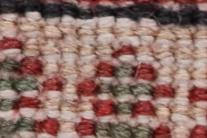Knot: (23, 12, 42, 23), (58, 6, 77, 17), (132, 84, 151, 94), (178, 12, 195, 23), (77, 34, 94, 45), (153, 106, 170, 117), (138, 17, 155, 28), (169, 112, 186, 123), (97, 17, 113, 28), (171, 26, 187, 37), (111, 67, 130, 76), (132, 103, 150, 112), (80, 18, 96, 28), (119, 53, 133, 64), (42, 26, 56, 37), (117, 103, 131, 114), (76, 100, 93, 109), (154, 75, 171, 84), (76, 7, 91, 17), (80, 54, 95, 64), (180, 1, 196, 10), (60, 15, 73, 26), (138, 67, 151, 78), (44, 15, 58, 25), (158, 40, 172, 50), (192, 59, 206, 69), (138, 3, 153, 12), (156, 28, 171, 37), (96, 34, 108, 45), (175, 39, 191, 47), (62, 53, 76, 62), (192, 100, 206, 109), (33, 109, 44, 120), (83, 122, 94, 133), (160, 64, 171, 75), (19, 89, 34, 97), (130, 128, 145, 136), (61, 45, 76, 53), (134, 26, 149, 34), (3, 29, 15, 39), (61, 92, 76, 100), (80, 111, 93, 120), (60, 111, 73, 120), (118, 94, 131, 103), (193, 127, 206, 136), (19, 109, 33, 117), (119, 37, 130, 47), (18, 21, 29, 31), (137, 116, 149, 125), (140, 36, 152, 45), (77, 45, 90, 53), (95, 45, 108, 53), (76, 28, 93, 34), (149, 117, 159, 127), (169, 14, 180, 23), (98, 83, 109, 92), (65, 75, 76, 84), (45, 109, 57, 117), (194, 79, 206, 87), (96, 128, 108, 136), (118, 128, 130, 136), (24, 48, 36, 56), (196, 1, 206, 10), (151, 59, 160, 69), (36, 37, 45, 47), (196, 14, 206, 23), (33, 122, 43, 131), (119, 45, 130, 53), (118, 114, 129, 122), (98, 54, 109, 62), (135, 94, 149, 100), (130, 36, 139, 45), (1, 39, 10, 48), (98, 92, 108, 100), (119, 76, 129, 84), (196, 117, 206, 125), (98, 114, 108, 122), (140, 45, 150, 53), (171, 1, 180, 9), (137, 78, 149, 84), (46, 39, 55, 47), (78, 94, 89, 100), (20, 131, 33, 136), (110, 76, 118, 84), (152, 131, 164, 136), (34, 131, 44, 136)
